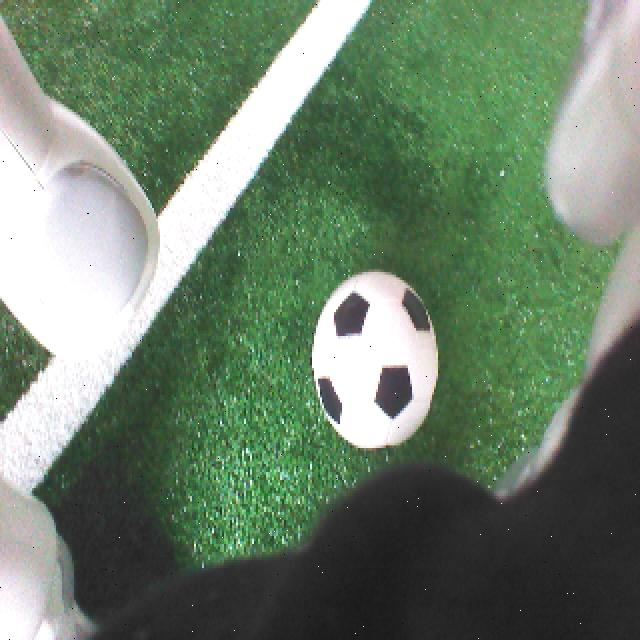ball: (308, 270, 444, 453)
